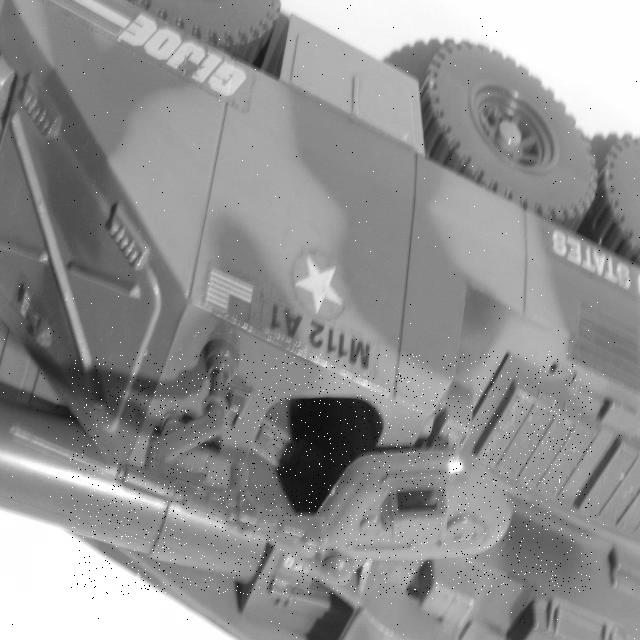MIL_MBT: (69, 354, 592, 594)
